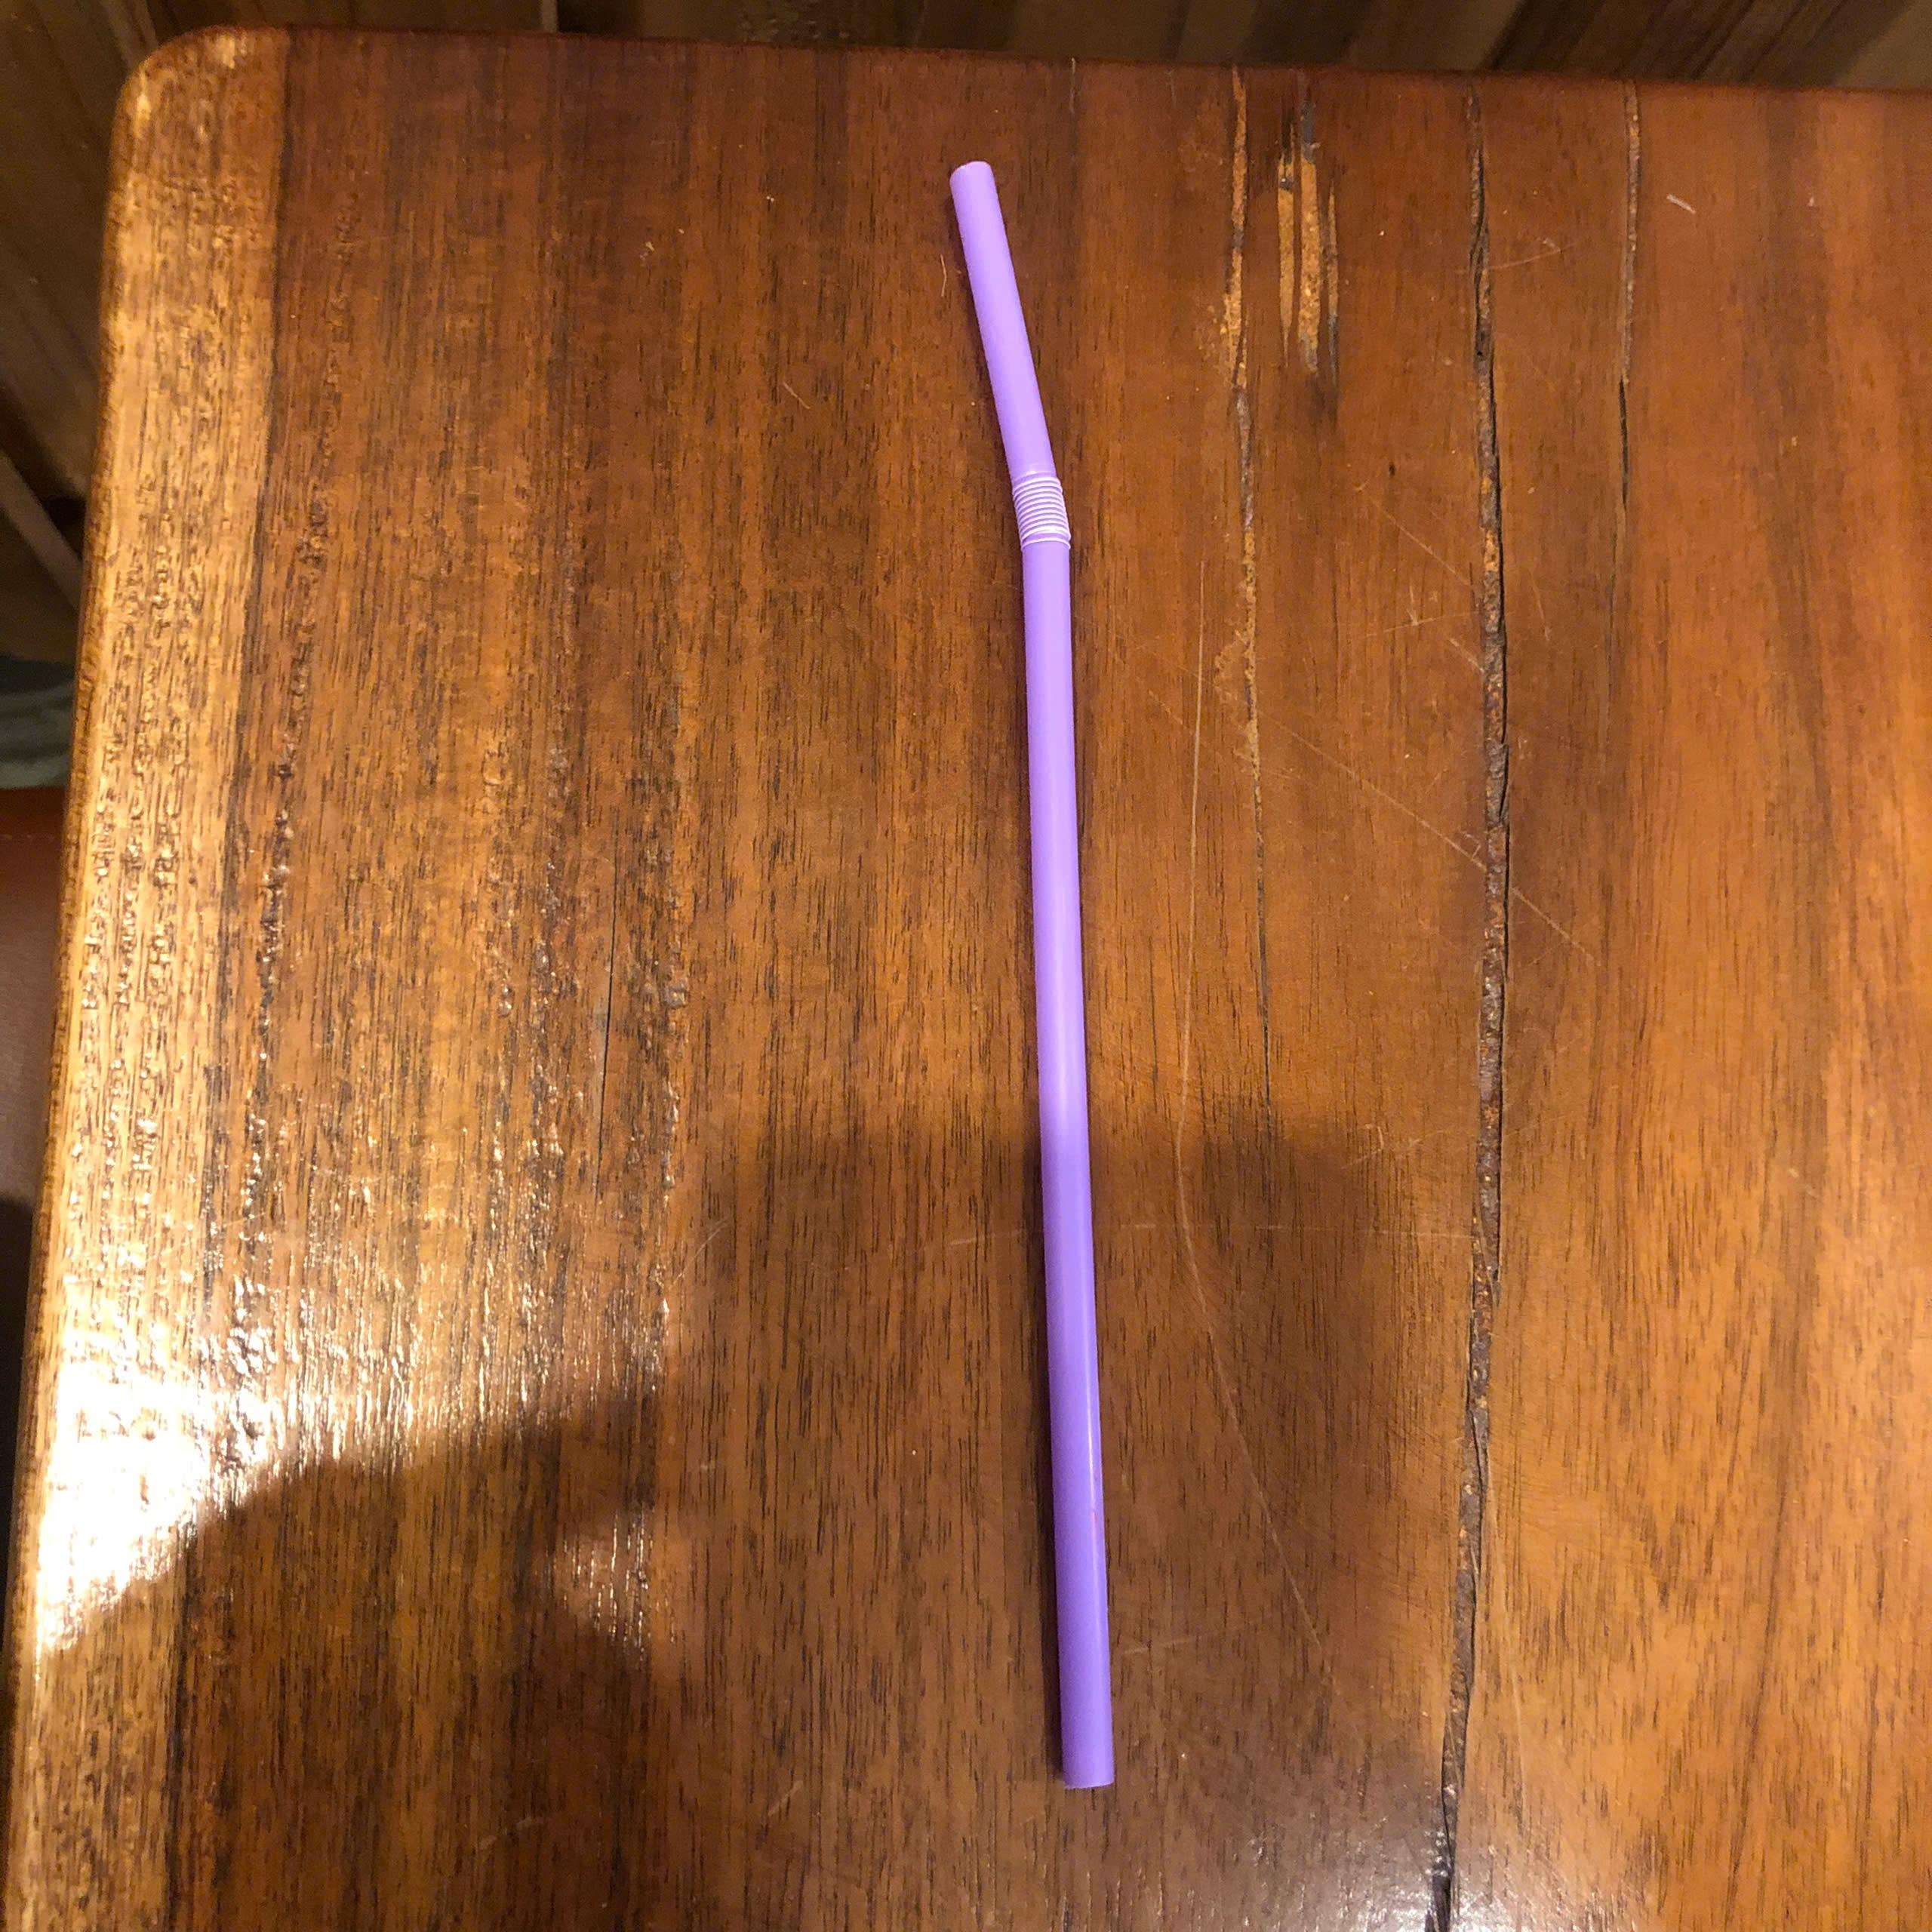Vo co: (947, 149, 1111, 1790)
